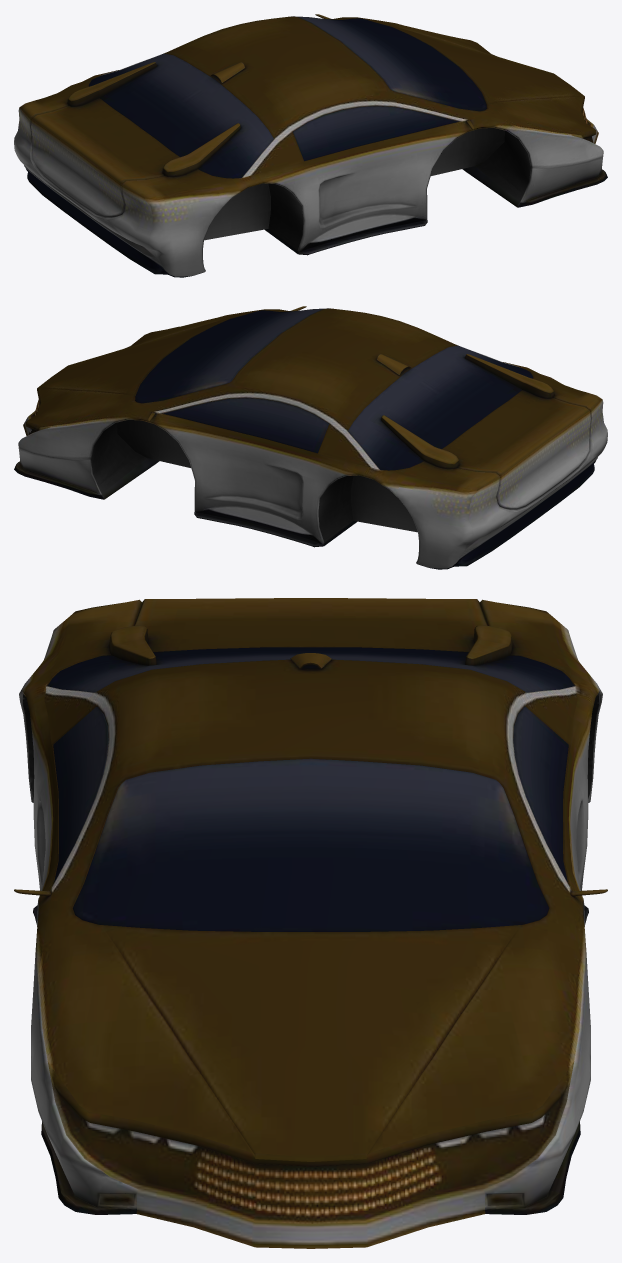
File: f1_car_mercedes_10.dae
3 views of the same model, one above another, from view 1: azimuth 30°, elevation 25°; view 2: azimuth 150°, elevation 25°; view 3: azimuth 270°, elevation 25° (orthographic). The views are drawn at different scales.
Visible parts, largest first — view 1: car_body; view 2: car_body; view 3: car_body.
Part boxes in pixels (x1,y1,x2,y2): car_body: (14,14,607,277); car_body: (14,306,607,569); car_body: (14,598,607,1248).
Bounding box in the file's own units: 0.3658 × 0.1927 × 0.0974.
1 material, 1 textured.
